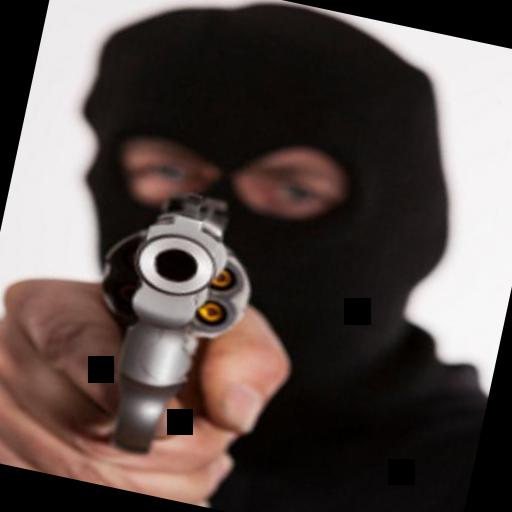Handgun: (59, 171, 270, 467)
